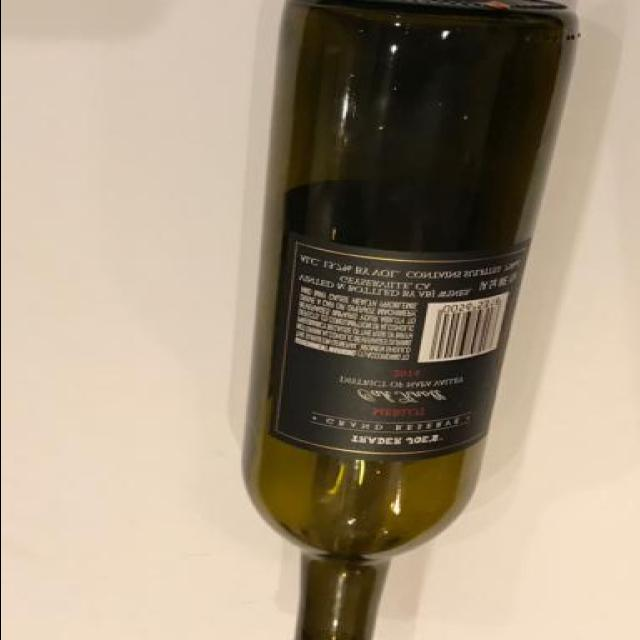glass: (238, 0, 574, 640)
